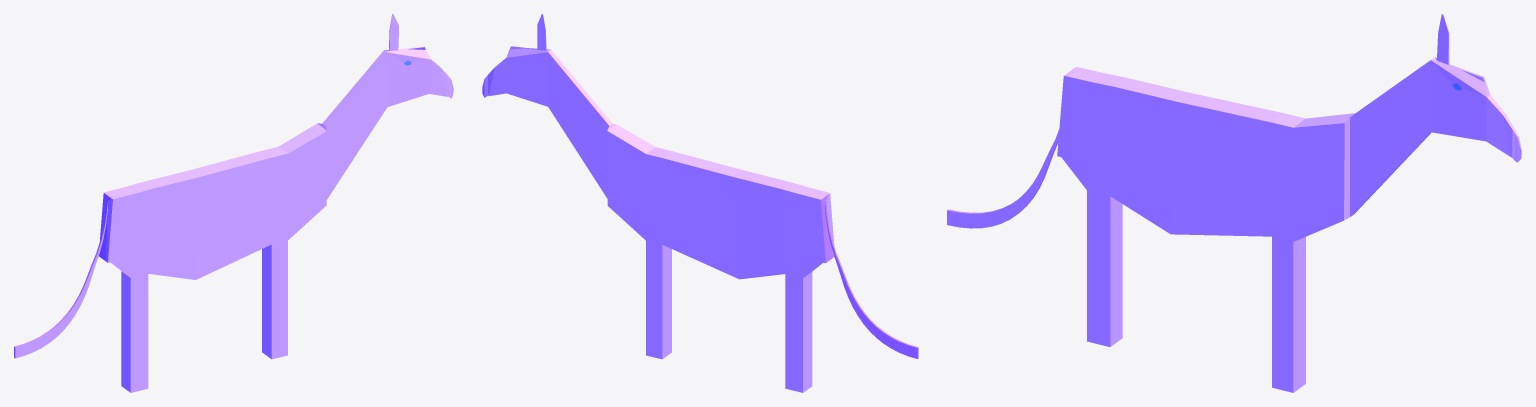
File: Asna.glb
The picture shows the model from 3 angles, left to right: view 1: azimuth 30°, elevation 25°; view 2: azimuth 150°, elevation 25°; view 3: azimuth 330°, elevation 25°; orthographic projection. The views are drawn at different scales.
Parts seen in each view (by area): view 1: Asna; view 2: Asna; view 3: Asna.
Part boxes in pixels (x1,y1,x2,y2): Asna: (14,14,453,392); Asna: (482,14,918,392); Asna: (947,14,1521,392).
Bounding box in the file's own units: 6.68 × 4.55 × 0.2686.
1 material, 1 textured.
